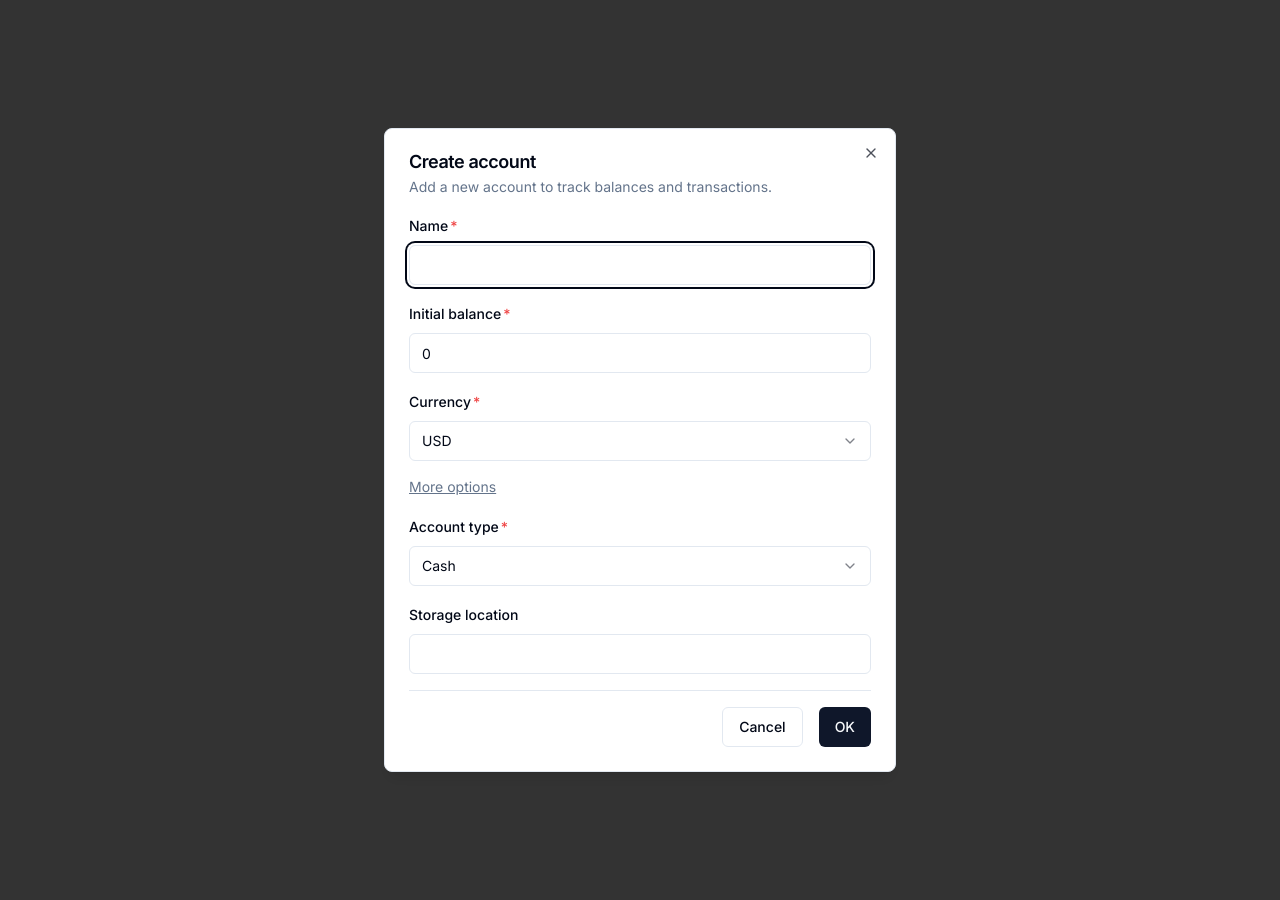
CreateAccountDialog › swaps subtype-specific fields when the type changes
expect the field labelled "Storage location" is shown: met, box [409,634,871,674]
# Switch to bankAccount via the type Select
What coordinates should you click on to do the following:
click the dropdown named "account type"
I would click on:
 (439, 566)
Its box is [409,546,871,586].
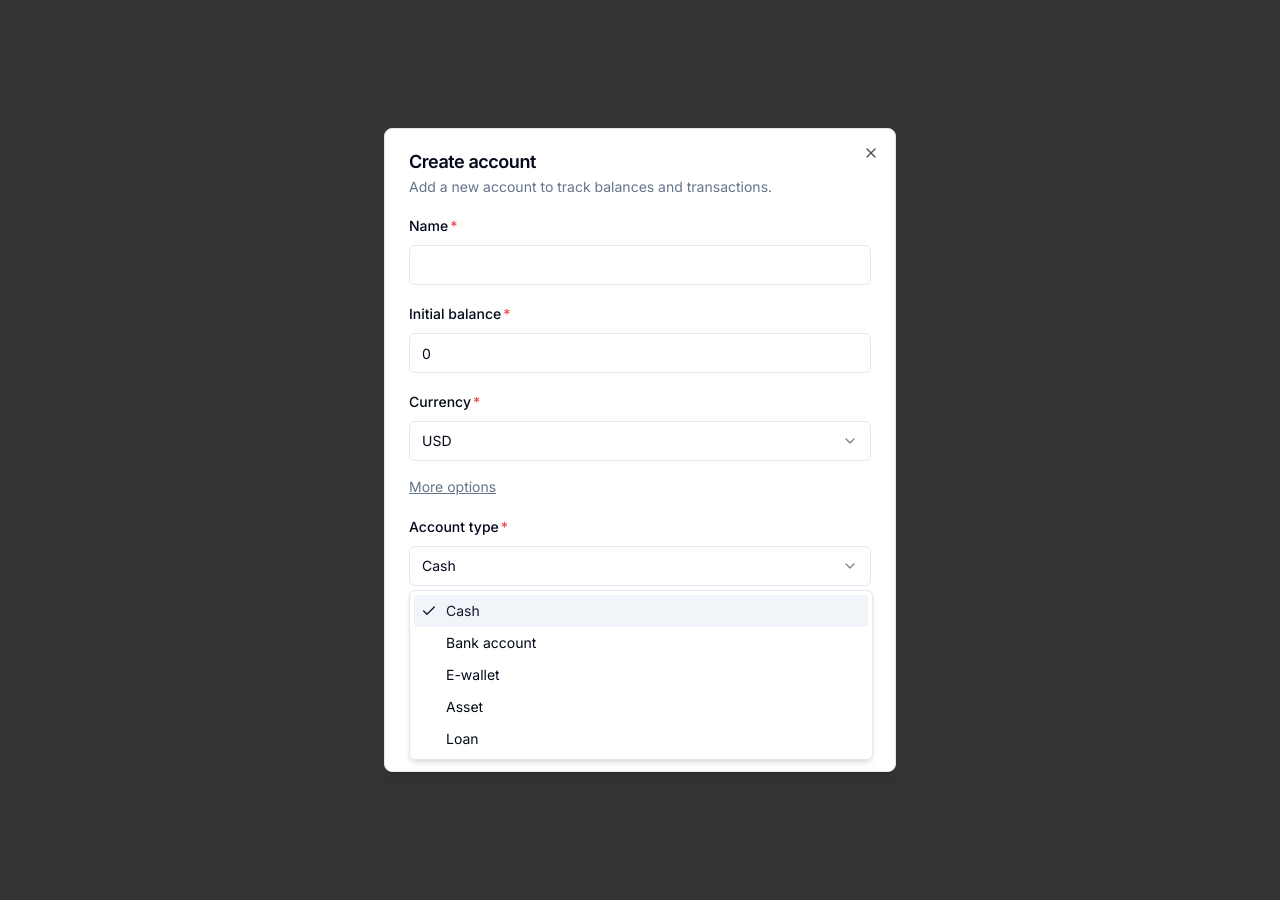
What coordinates should you click on to do the following:
click the option "Bank account"
I would click on:
 (491, 642)
Its box is [446,634,536,651].
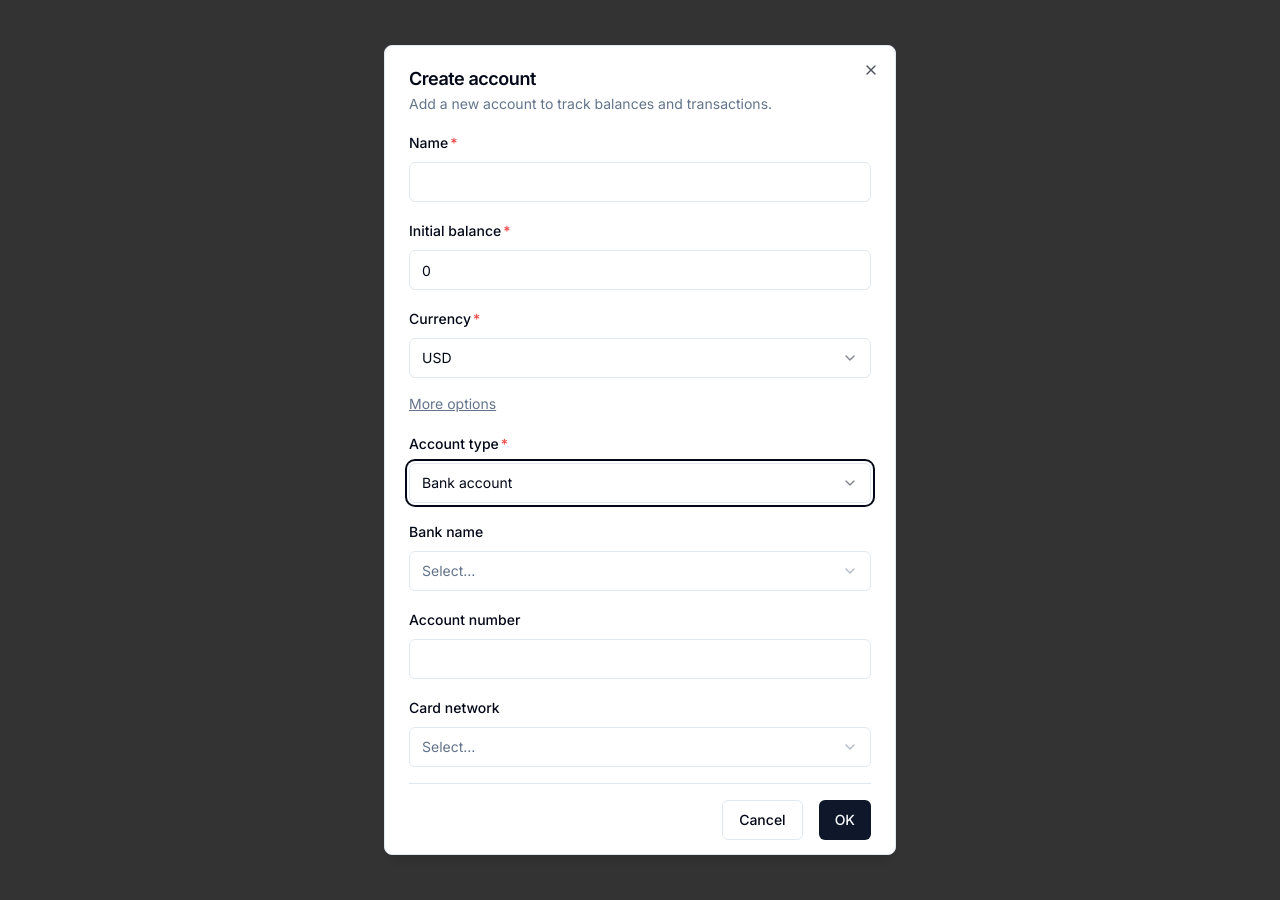
expect the dropdown named "bank name" is shown: met, box [409,551,871,591]
expect the label labelled "Storage location" is gone: met
